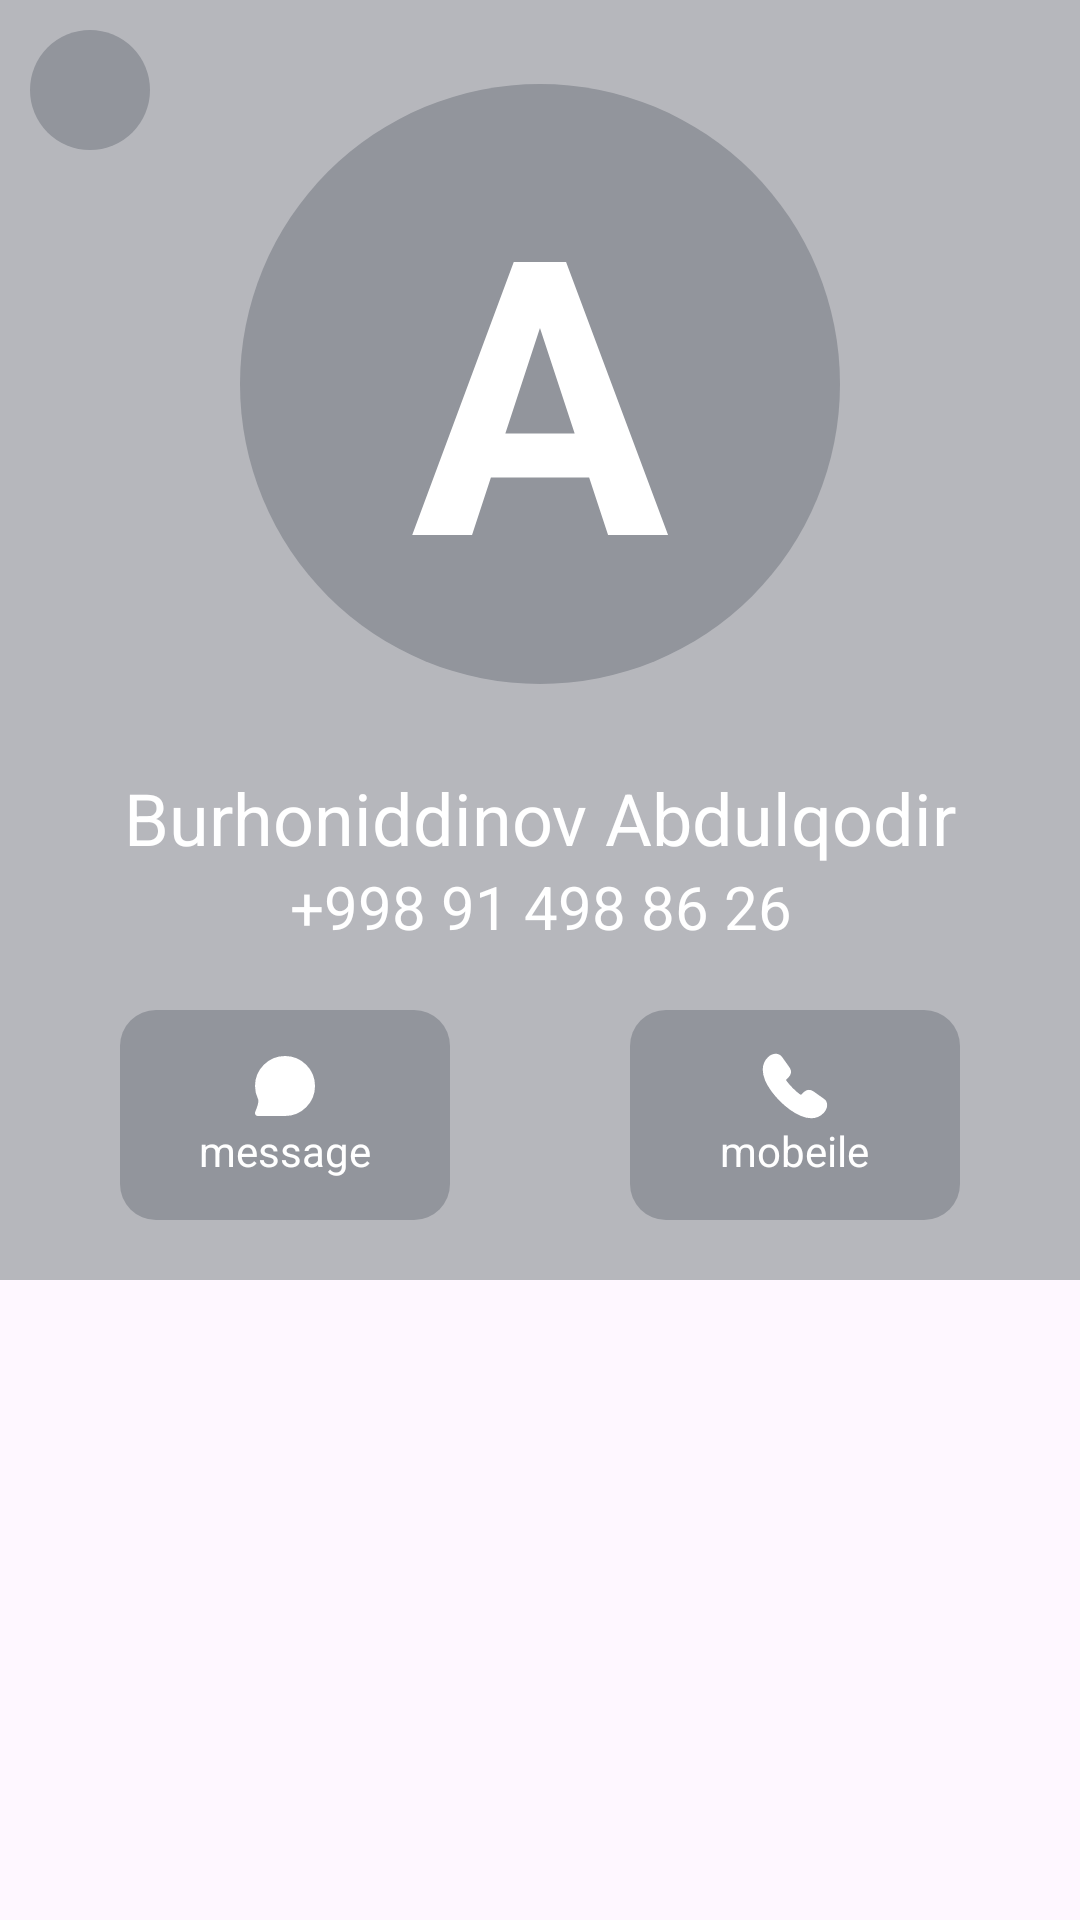

Where to tap for icons on this 1080px×1920px app screen, as [x,y]:
call: [794,1086]
